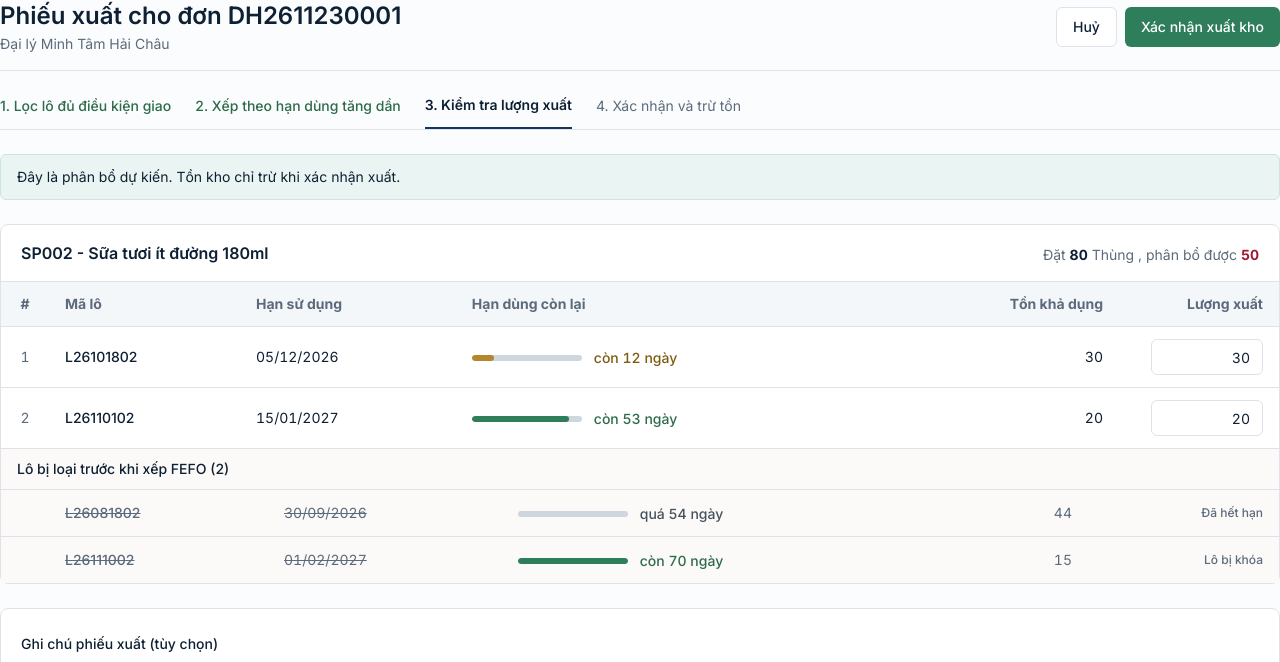
Test: OrderFefoOutboundPage (AC10) › hiển thị bảng lô hợp lệ, khối Lô bị loại trước khi xếp FEFO kèm lý do, cảnh báo vượt tồn và dialog Xuất một phần
expect the heading "Phiếu xuất cho đơn DH2611230001" is shown: met, box [0,0,401,32]
expect the text "Lô bị loại trước khi xếp FEFO (2)" is shown: met, box [1,449,1279,490]
Clear the field named "Lượng xuất lô L26101802" at (1207, 357), box [1151,339,1263,375]
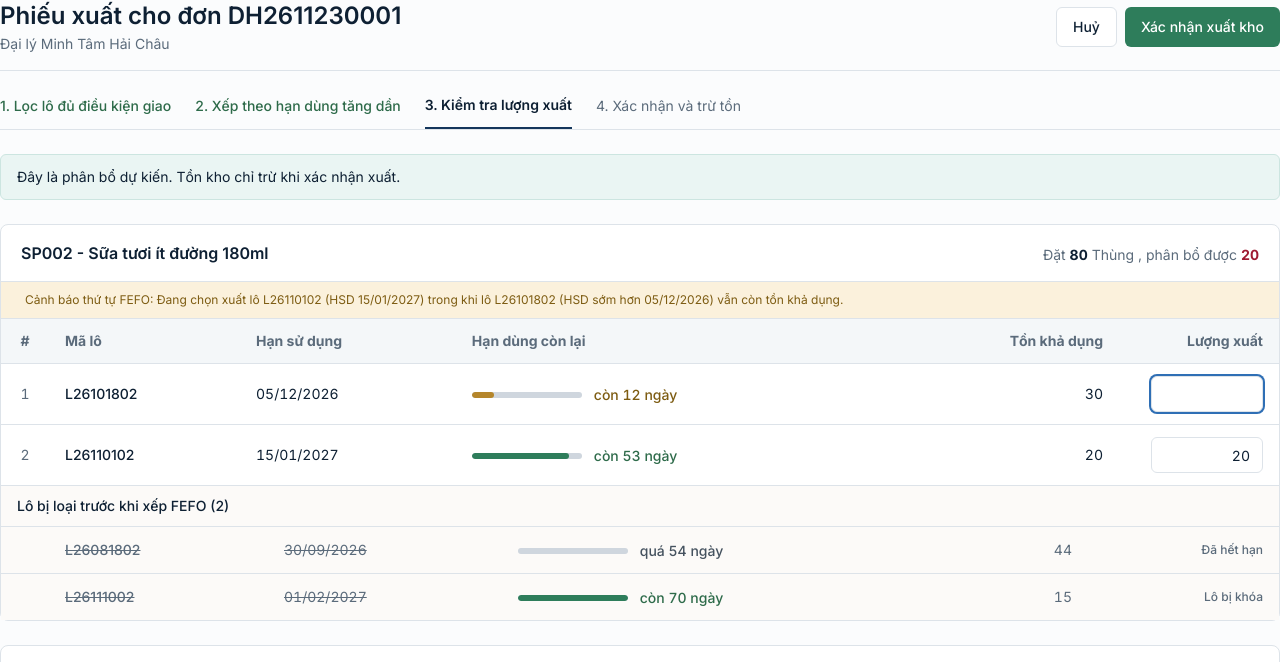
Type "35" into the field named "Lượng xuất lô L26101802" at (1207, 394), box [1151,376,1263,412]
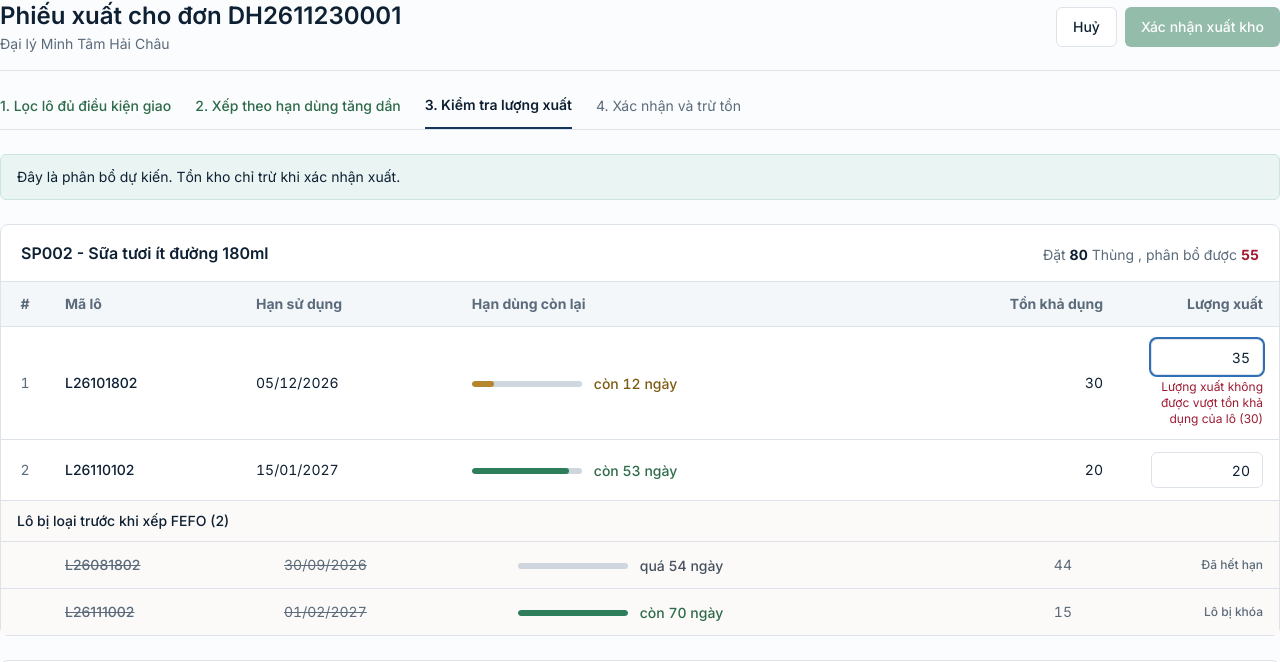
expect the text "Lượng xuất không được vượt tồn khả dụng của lô (30)" is shown: met, box [1161,379,1263,426]
expect the button "Xác nhận xuất kho" next to "Huỷ" is disabled: met, box [1125,7,1279,47]
Hạ lô 1 xuống 10 (trong khi lô 2 đang là 20) → hiển thị cảnh báo bỏ qua thứ tự FEFO (không chặn)
Clear the field named "Lượng xuất lô L26101802" at (1207, 357), box [1151,339,1263,375]
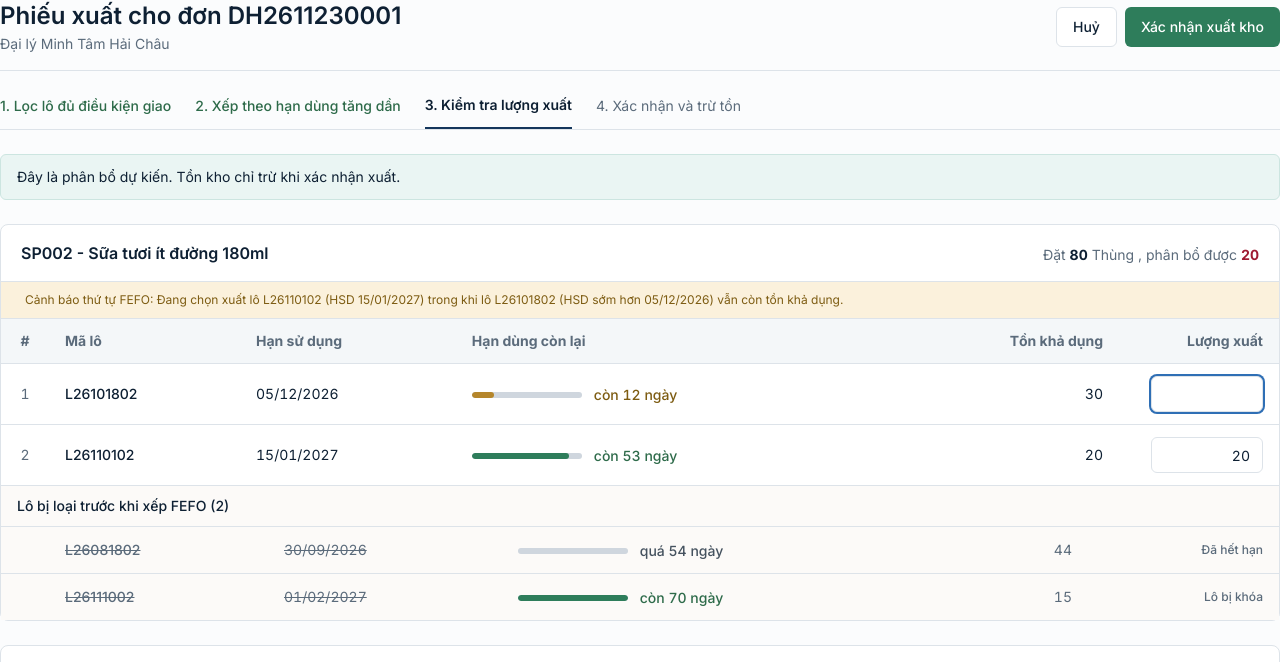
Type "10" into the field named "Lượng xuất lô L26101802" at (1207, 394), box [1151,376,1263,412]
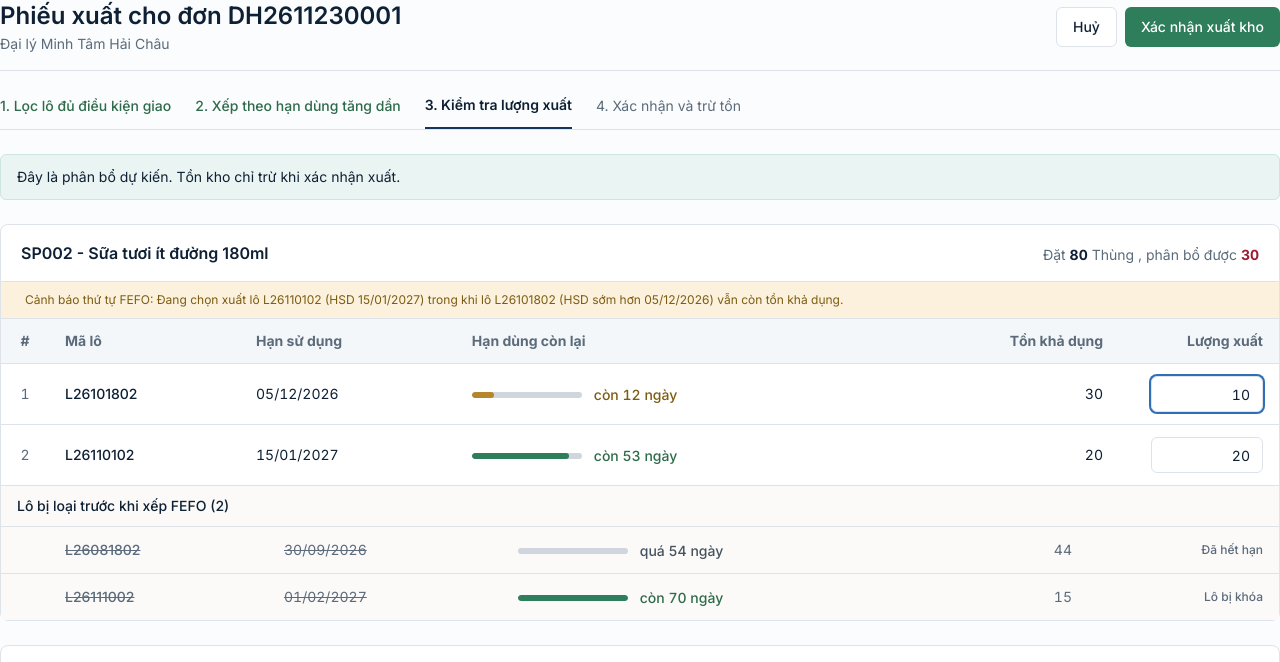
expect the text "vẫn còn tồn khả dụng" is shown: met, box [157,292,843,307]
Click the button "Xác nhận xuất kho" next to "Huỷ" at (1202, 27), box [1125,7,1279,47]
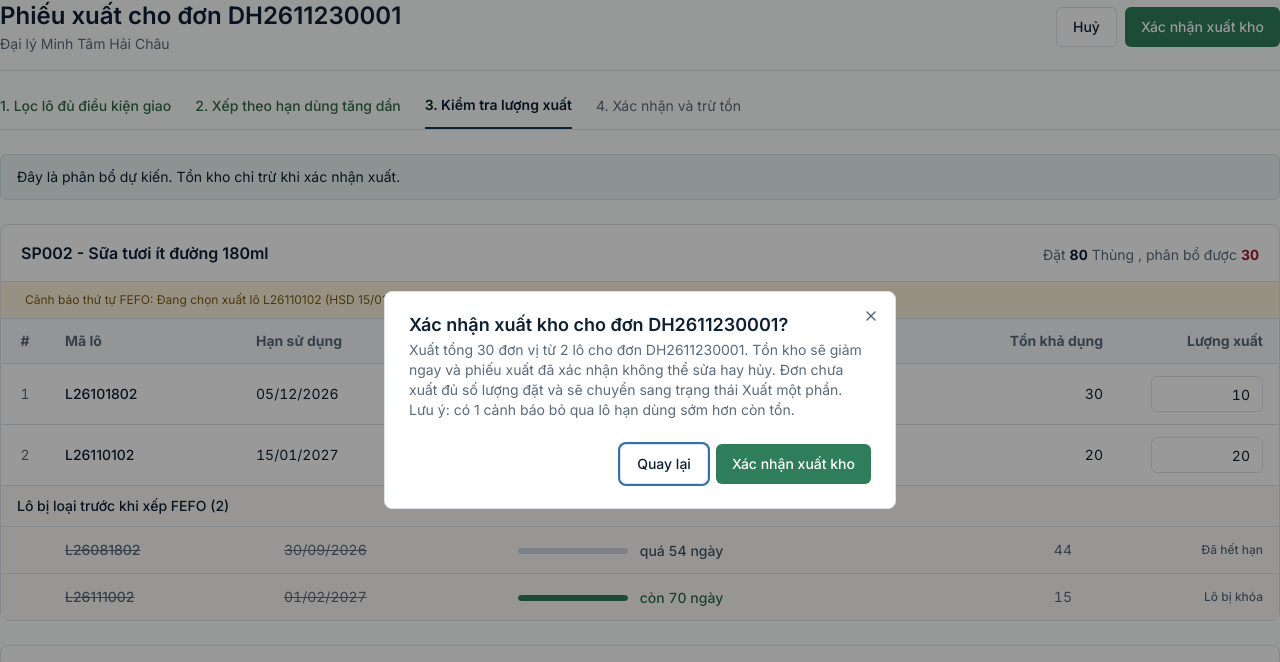
expect the text "Xuất một phần" is shown: met, box [409,341,862,418]
